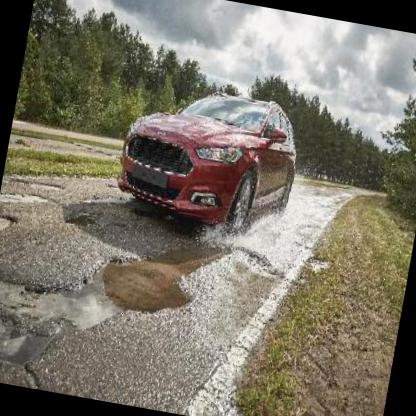pothole: (74, 247, 197, 323), (0, 185, 50, 210), (63, 206, 100, 228), (0, 210, 19, 236)
